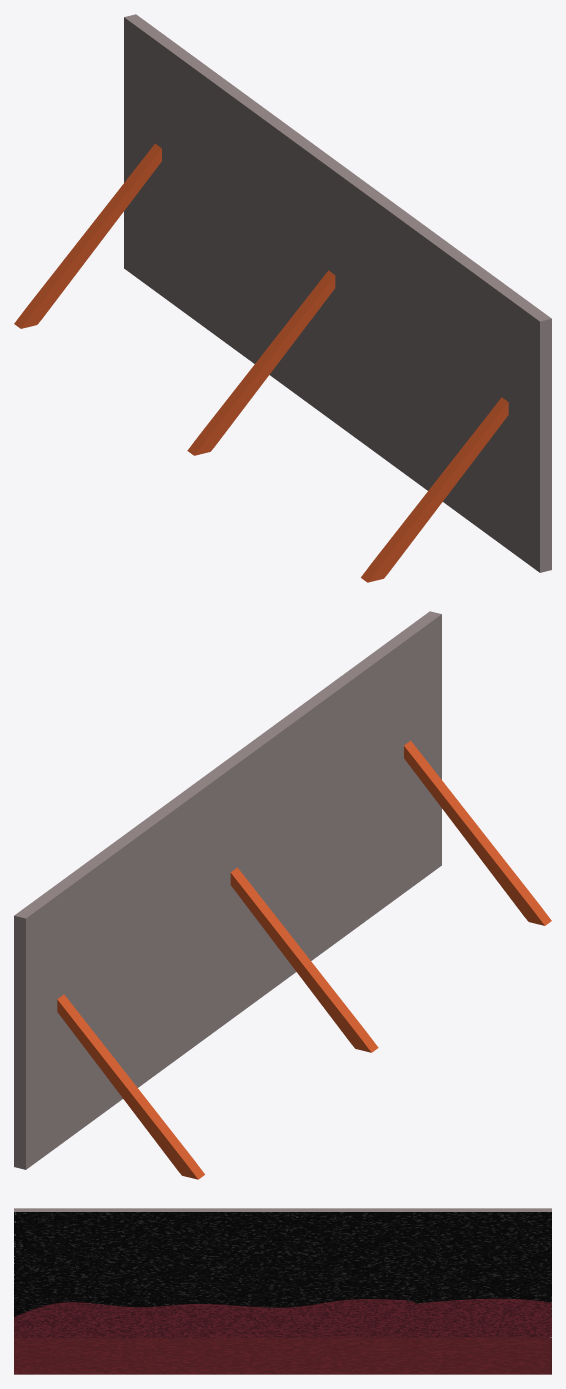
Rendered from barrier.fbx.
3 views of the same model, one above another, from view 1: azimuth 30°, elevation 25°; view 2: azimuth 150°, elevation 25°; view 3: azimuth 270°, elevation 25° (orthographic). The views are drawn at different scales.
Visible parts, largest first — view 1: wall, support.001, support, support.002; view 2: wall, support.001, support.002, support; view 3: wall.
Boxes of the visible parts, x1,y1,x2,y2 form: wall: (124, 14, 551, 572); support.001: (187, 270, 335, 455); support: (361, 397, 508, 582); support.002: (14, 143, 161, 328); wall: (14, 611, 441, 1169); support.001: (230, 867, 378, 1052); support.002: (57, 994, 204, 1179); support: (404, 740, 551, 925); wall: (14, 1208, 551, 1374).
Bounding box in the file's own units: 255 × 400 × 1200.
